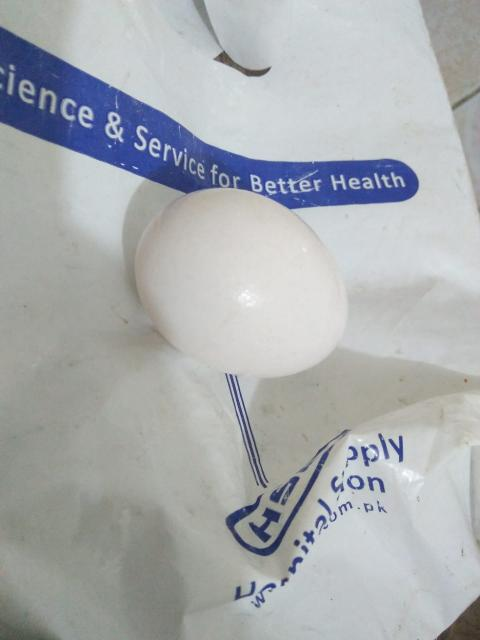Sano: (129, 185, 348, 378)
